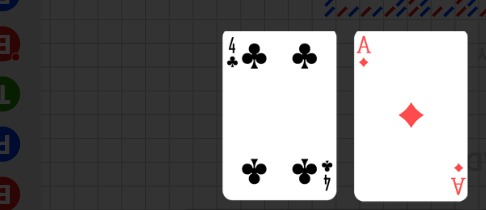4C: (226, 35, 240, 70)
AD: (448, 160, 465, 196)
